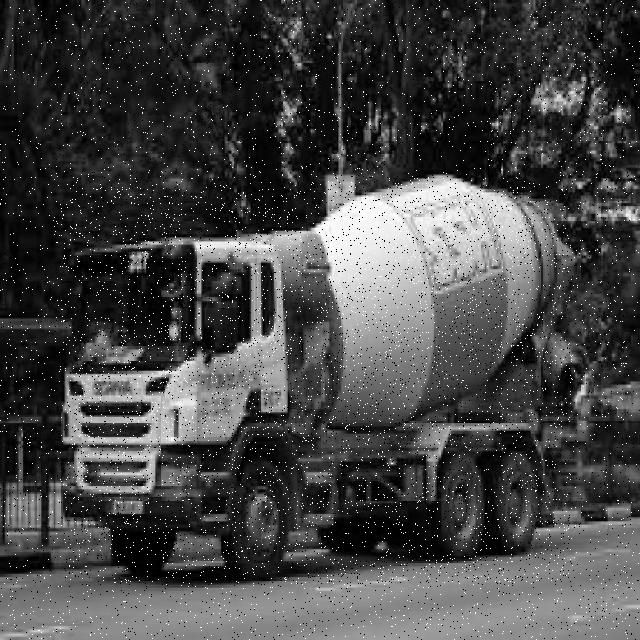Concrete Mixer: (61, 175, 572, 585)
